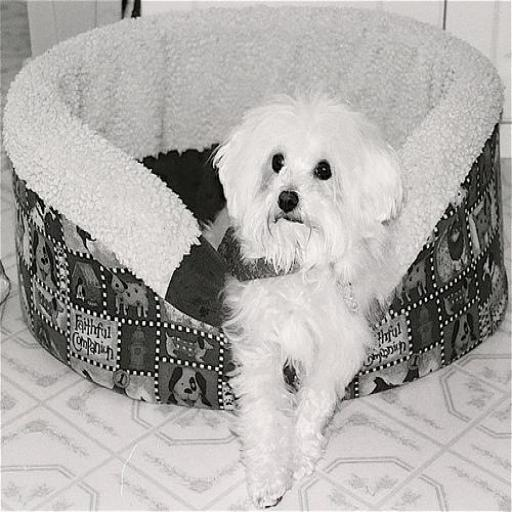dog_face: (216, 96, 380, 254)
